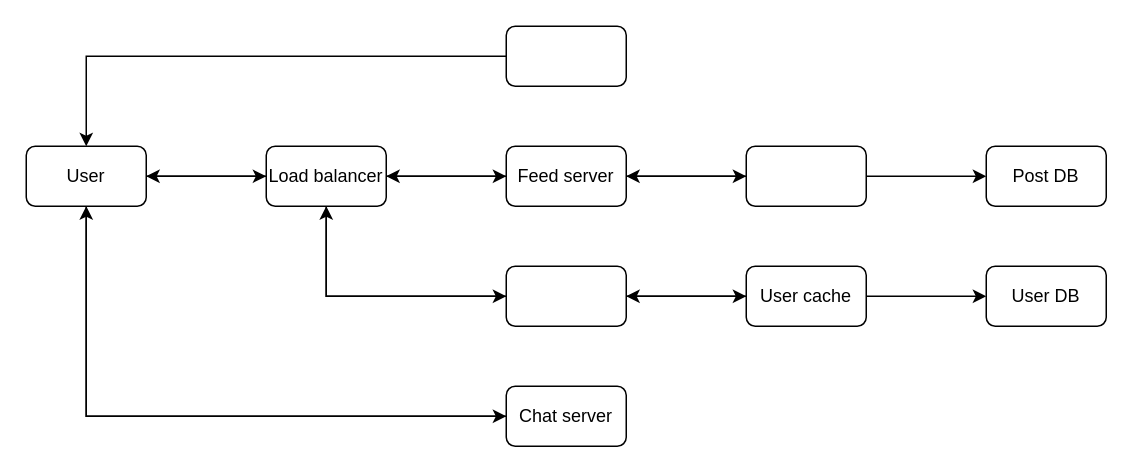
Some shapes in this 1133 by 473 pixel diagram are drawn without their labels. The shapes that lost their labels are listed below. From the top down, each one's box as (x1, y1, x2, y2) in pixels, then its label:
(505, 25, 626, 86): Notification server
(745, 145, 866, 206): Post cache
(505, 265, 626, 326): User server
